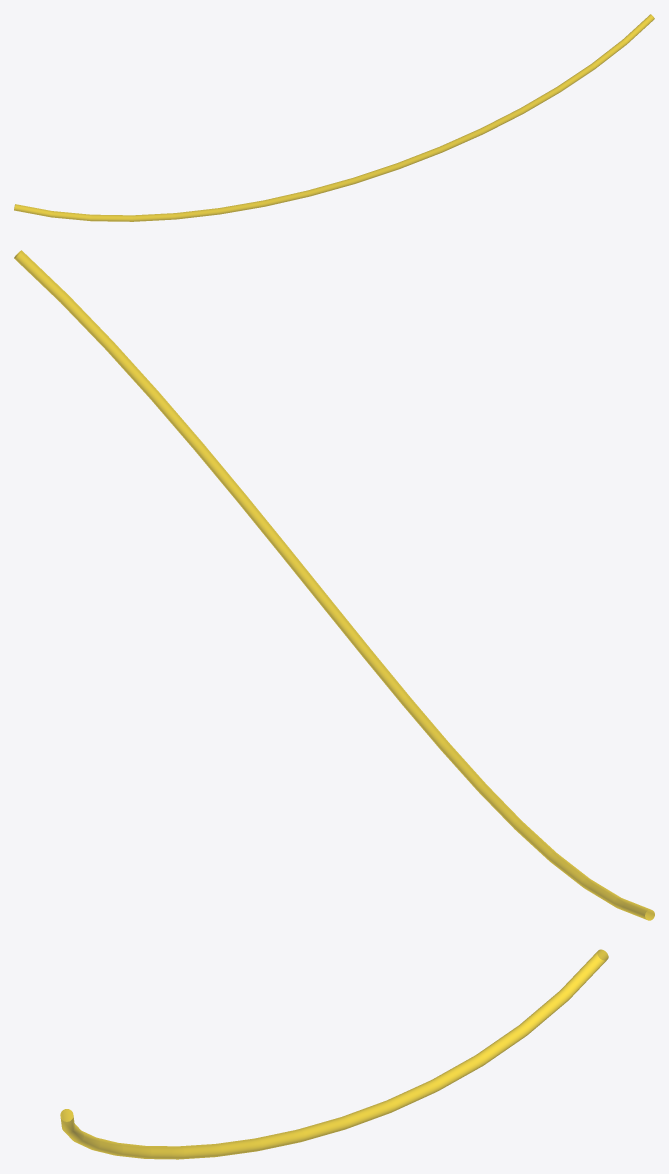
File: Event_84804159_track_44.fbx
3 renders of one model, top to bottom at view 1: azimuth 30°, elevation 25°; view 2: azimuth 150°, elevation 25°; view 3: azimuth 270°, elevation 25°, orthographic. The views are drawn at different scales.
Parts seen in each view (by area): view 1: Model; view 2: Model; view 3: Model.
Boxes of the visible parts, x1=… form: Model: x1=14, y1=14, x2=654, y2=221; Model: x1=14, y1=250, x2=654, y2=920; Model: x1=60, y1=949, x2=608, y2=1159.
Size of the model in its own units: 3.55 by 1.21 by 1.66.
